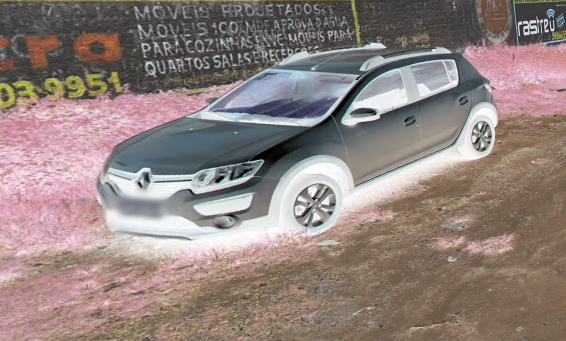car: (88, 40, 504, 251)
